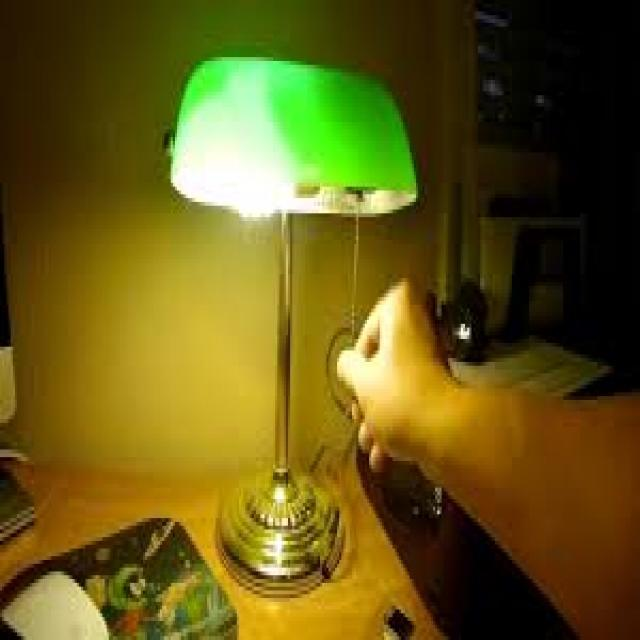lamp: (157, 43, 423, 602)
